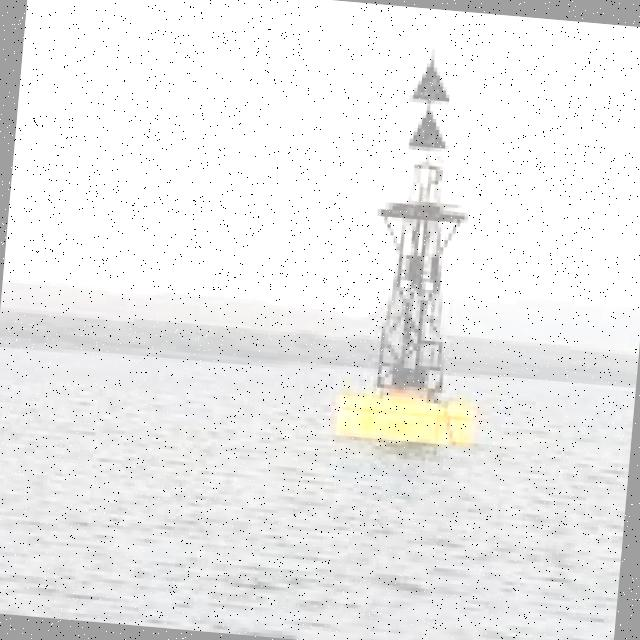marque: (339, 46, 522, 439)
